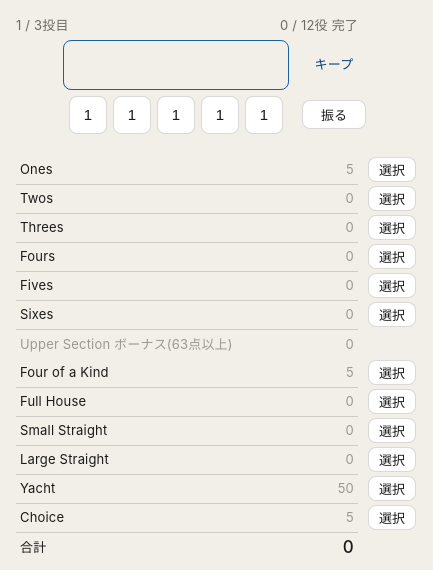
Scenario: PlayScreen › 振るボタンはキープしていないダイスだけを振り直し残り回数を減らし、0になると無効化される
Click the button with test id "dice-0" at [88, 115], box [69,96,107,134]
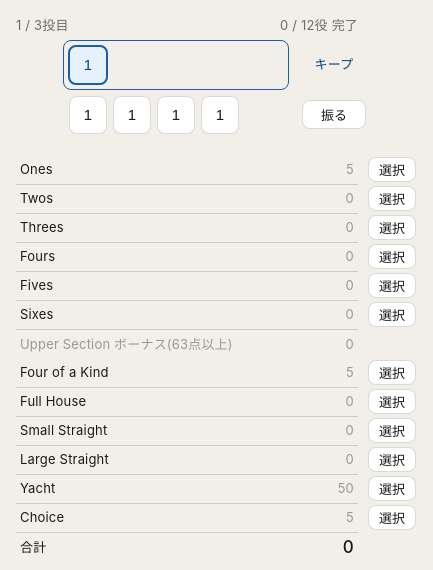
Click the button "振る" at [334, 115], box [302,100,366,129]
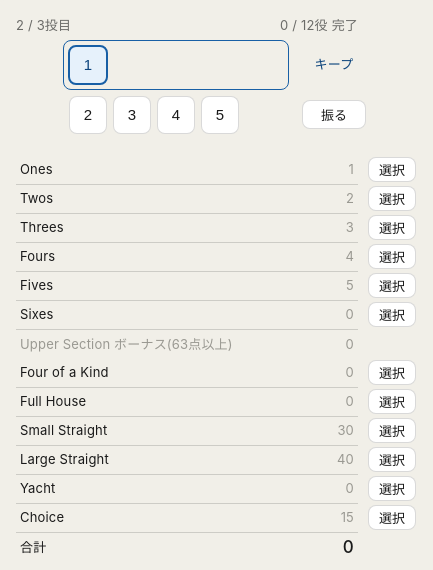
Expected: the button with test id "dice-1" reads "2", [69,96,107,134]
Expected: the button with test id "dice-2" reads "3", [113,96,151,134]
Expected: the button with test id "dice-3" reads "4", [157,96,195,134]
Click the button "振る" at [334, 115], box [302,100,366,129]
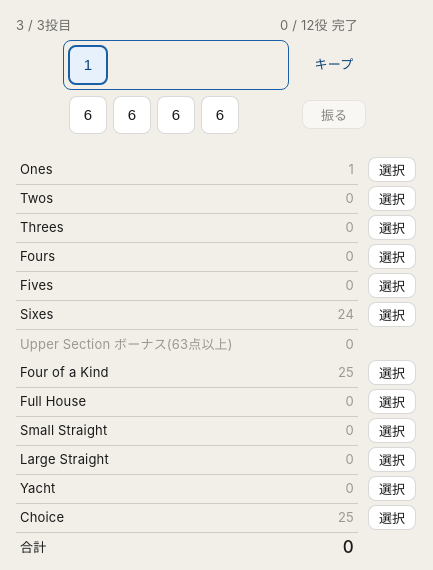
Expected: the text "3 / 3投目" is shown, [16,16,71,35]
Expected: the button "振る" is disabled, [302,100,366,129]
